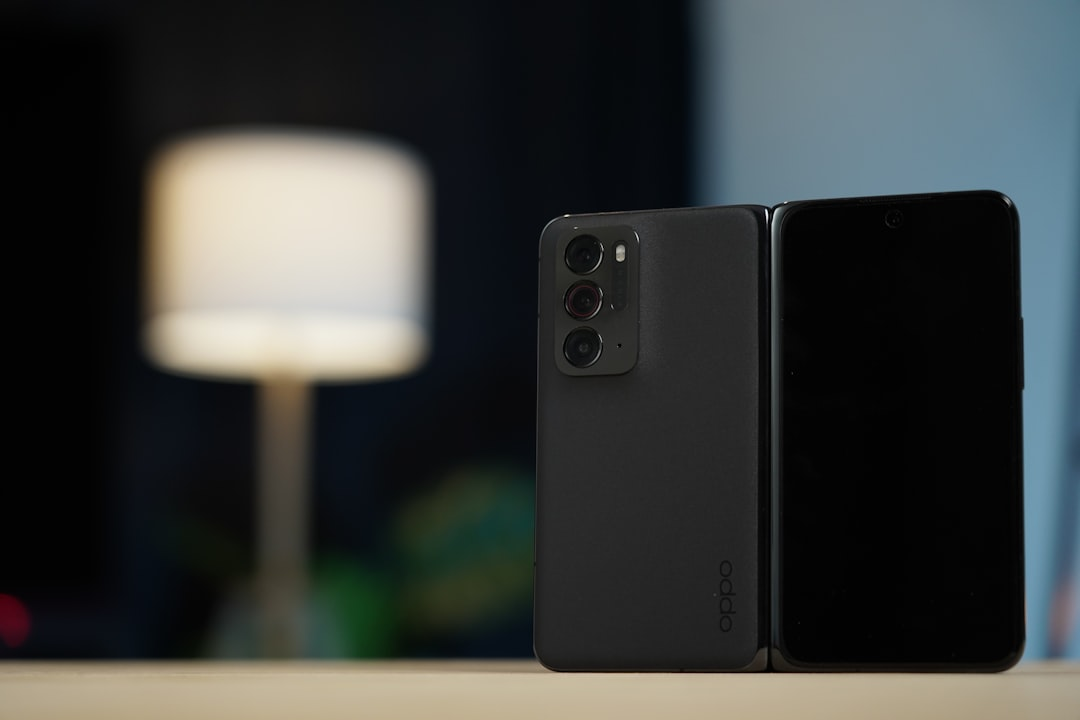phone: (772, 187, 1027, 677), (535, 207, 770, 675)
